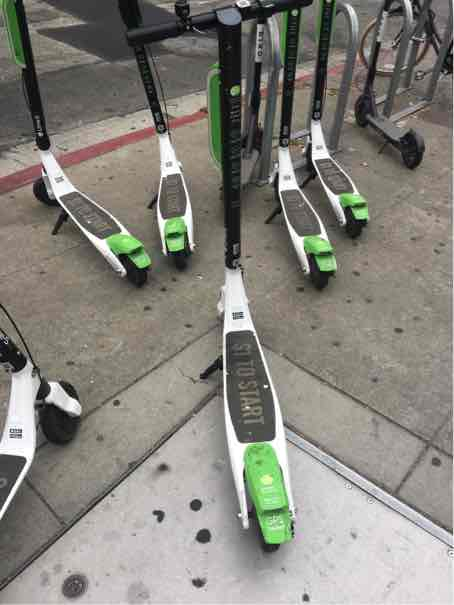scooter: (129, 2, 317, 554), (1, 4, 152, 287), (109, 1, 197, 274), (263, 1, 342, 293), (296, 1, 372, 246)
